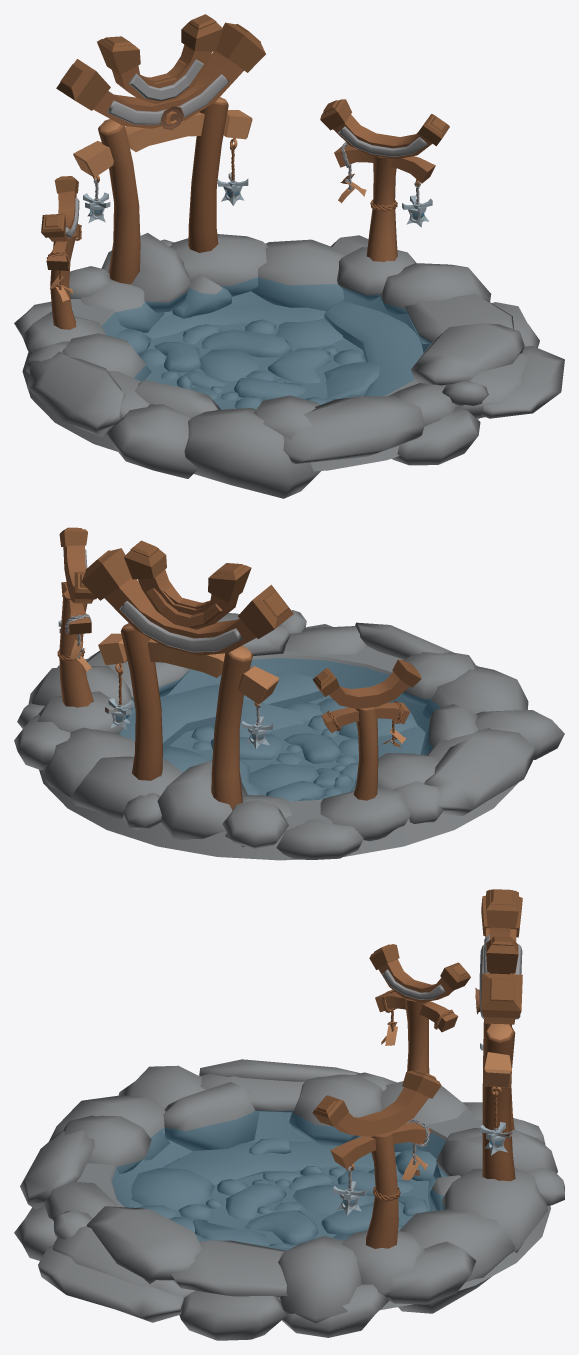
File: Altar.fbx
The picture shows the model from 3 angles, top to bottom: view 1: azimuth 30°, elevation 25°; view 2: azimuth 150°, elevation 25°; view 3: azimuth 270°, elevation 25°; orthographic projection. The views are drawn at different scales.
Visible parts, largest first — view 1: Altar; view 2: Altar; view 3: Altar.
Boxes of the visible parts, x1=… form: Altar: x1=14, y1=14, x2=564, y2=498; Altar: x1=14, y1=527, x2=564, y2=860; Altar: x1=14, y1=889, x2=564, y2=1340.
Size of the model in its own units: 27.35 by 17.97 by 26.51.
